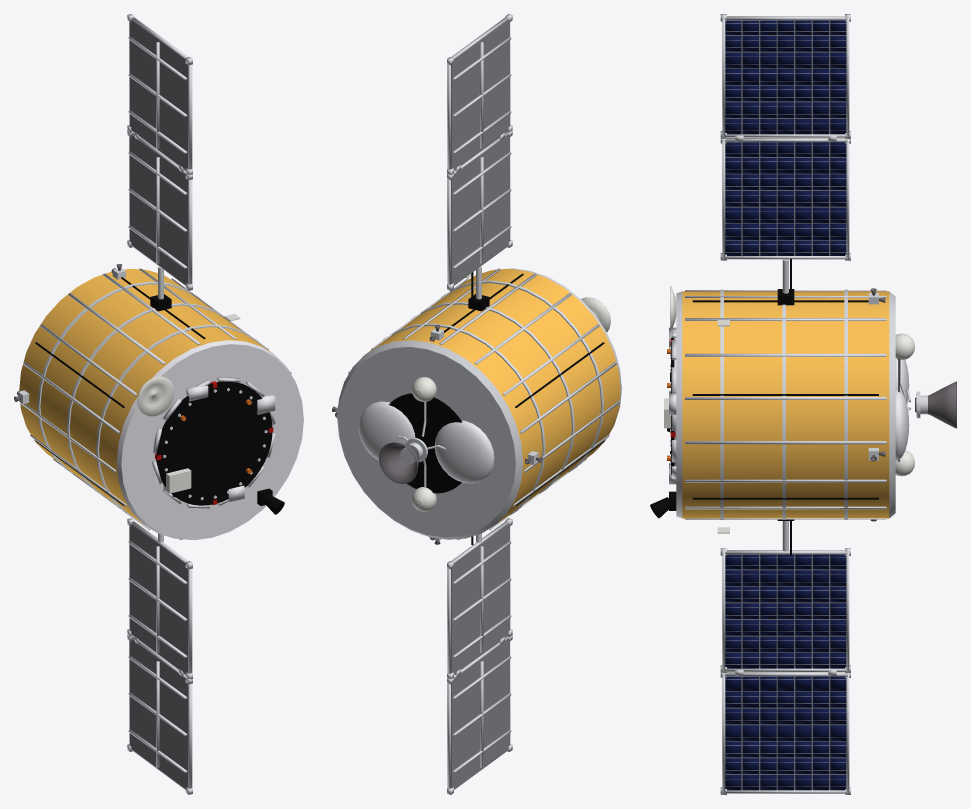
Rendered from propulsion_module_B.obj.
3 renders of one model, left to right at view 1: azimuth 30°, elevation 25°; view 2: azimuth 150°, elevation 25°; view 3: azimuth 270°, elevation 25°, orthographic. The views are drawn at different scales.
Visible parts, largest first — view 1: pm_body, pm_top_deck, clamp_band, pm_wing_port_panel1_substrate, pm_wing_starboard_panel0_substrate, pm_wing_port_panel0_substrate, pm_wing_starboard_panel1_substrate, pm_stringers, pm_wing_port_panel0_back_ribs, pm_wing_port_panel1_back_ribs, pm_wing_starboard_panel0_back_ribs, pm_wing_starboard_panel1_back_ribs (+11 smaller); view 2: pm_body, pm_bottom_deck, pm_wing_starboard_panel0_substrate, pm_wing_port_panel1_substrate, pm_wing_port_panel0_substrate, pm_wing_starboard_panel1_substrate, pm_stringers, pm_engine_heat_shield, pm_tank_dome0, pm_tank_dome1, pm_main_engine_bell, pm_wing_port_panel0_back_ribs (+11 smaller); view 3: pm_body, pm_wing_starboard_panel0_cells, pm_wing_starboard_panel1_cells, pm_wing_port_panel1_cells, pm_wing_port_panel0_cells, pm_stringers, pm_wing_starboard_panel0_substrate, pm_wing_starboard_panel1_substrate, pm_wing_port_panel0_substrate, pm_wing_port_panel1_substrate, pm_wing_port_panel1_frame, pm_wing_starboard_panel0_frame (+16 smaller).
Part boxes in pixels (x1,y1,x2,y2): pm_body: (19, 268, 273, 523); pm_top_deck: (116, 340, 303, 539); clamp_band: (156, 381, 272, 505); pm_wing_port_panel1_substrate: (129, 19, 188, 169); pm_wing_starboard_panel0_substrate: (129, 523, 188, 673); pm_wing_port_panel0_substrate: (129, 134, 188, 284); pm_wing_starboard_panel1_substrate: (129, 638, 188, 788); pm_stringers: (20, 268, 291, 539); pm_wing_port_panel0_back_ribs: (128, 152, 187, 268); pm_wing_port_panel1_back_ribs: (128, 37, 187, 153); pm_wing_starboard_panel0_back_ribs: (128, 541, 187, 657); pm_wing_starboard_panel1_back_ribs: (128, 656, 187, 772); pm_body: (365, 268, 620, 523); pm_bottom_deck: (337, 340, 522, 539); pm_wing_starboard_panel0_substrate: (451, 523, 509, 673); pm_wing_port_panel1_substrate: (451, 19, 509, 169); pm_wing_port_panel0_substrate: (451, 134, 509, 284); pm_wing_starboard_panel1_substrate: (451, 638, 509, 788); pm_stringers: (337, 268, 619, 539); pm_engine_heat_shield: (389, 393, 461, 493); pm_tank_dome0: (434, 420, 494, 483); pm_tank_dome1: (358, 401, 415, 460); pm_main_engine_bell: (379, 442, 419, 483); pm_wing_port_panel0_back_ribs: (452, 152, 511, 268); pm_body: (682, 291, 889, 518); pm_wing_starboard_panel0_cells: (725, 554, 846, 668); pm_wing_starboard_panel1_cells: (725, 676, 846, 790); pm_wing_port_panel1_cells: (725, 20, 846, 134); pm_wing_port_panel0_cells: (725, 142, 846, 255); pm_stringers: (685, 290, 886, 519); pm_wing_starboard_panel0_substrate: (725, 554, 846, 668); pm_wing_starboard_panel1_substrate: (725, 676, 846, 789); pm_wing_port_panel0_substrate: (725, 142, 846, 255); pm_wing_port_panel1_substrate: (725, 20, 846, 133); pm_wing_port_panel1_frame: (720, 14, 850, 138); pm_wing_starboard_panel0_frame: (720, 548, 850, 672).
Bounding box in the file's own units: 2.47 × 8.31 × 2.97.
